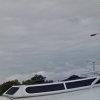Boat: (5, 69, 100, 100)
